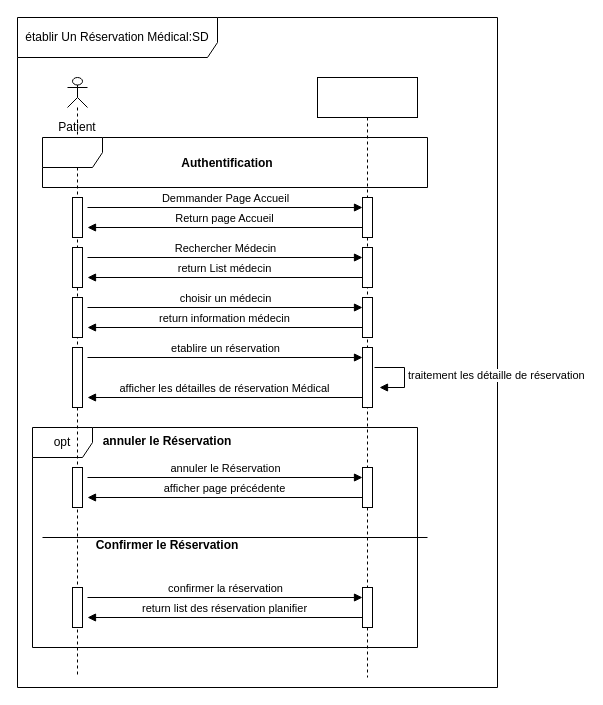
Image size: 603x705. Some labels were removed from this diagram. Each missing label, with the box of its shape:
:System: (316, 76, 418, 678)
Ref: (42, 136, 428, 188)
